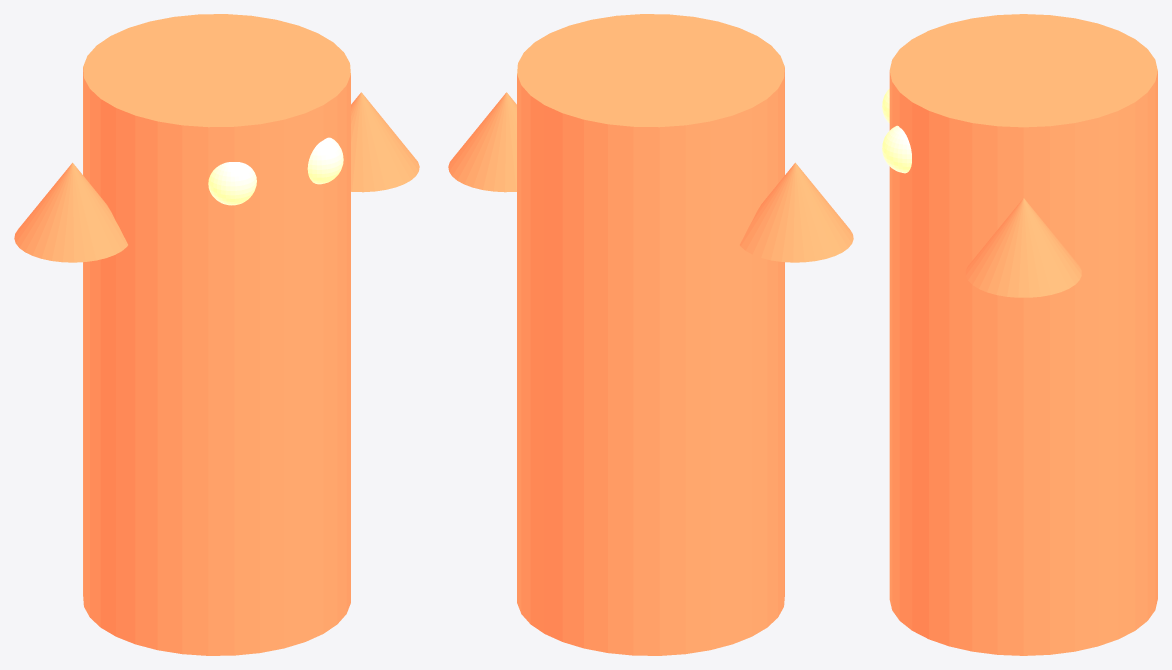
File: SM_Enemy_Basic.glb
The picture shows the model from 3 angles, left to right: view 1: azimuth 30°, elevation 25°; view 2: azimuth 150°, elevation 25°; view 3: azimuth 270°, elevation 25°; orthographic projection.
Parts seen in each view (by area): view 1: SM_Enemy_Basic; view 2: SM_Enemy_Basic; view 3: SM_Enemy_Basic.
Part boxes in pixels (box(x1,y1,x2,y2)): SM_Enemy_Basic: box(14, 14, 419, 655); SM_Enemy_Basic: box(448, 14, 853, 655); SM_Enemy_Basic: box(882, 14, 1157, 655).
Bounding box in the file's own units: 1.08 × 1.4 × 0.662.
